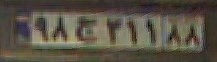character: (74, 15, 102, 45), (33, 15, 52, 44), (52, 15, 71, 44), (105, 17, 124, 46), (142, 16, 159, 47), (125, 16, 141, 47), (186, 20, 202, 50), (167, 22, 183, 47)
